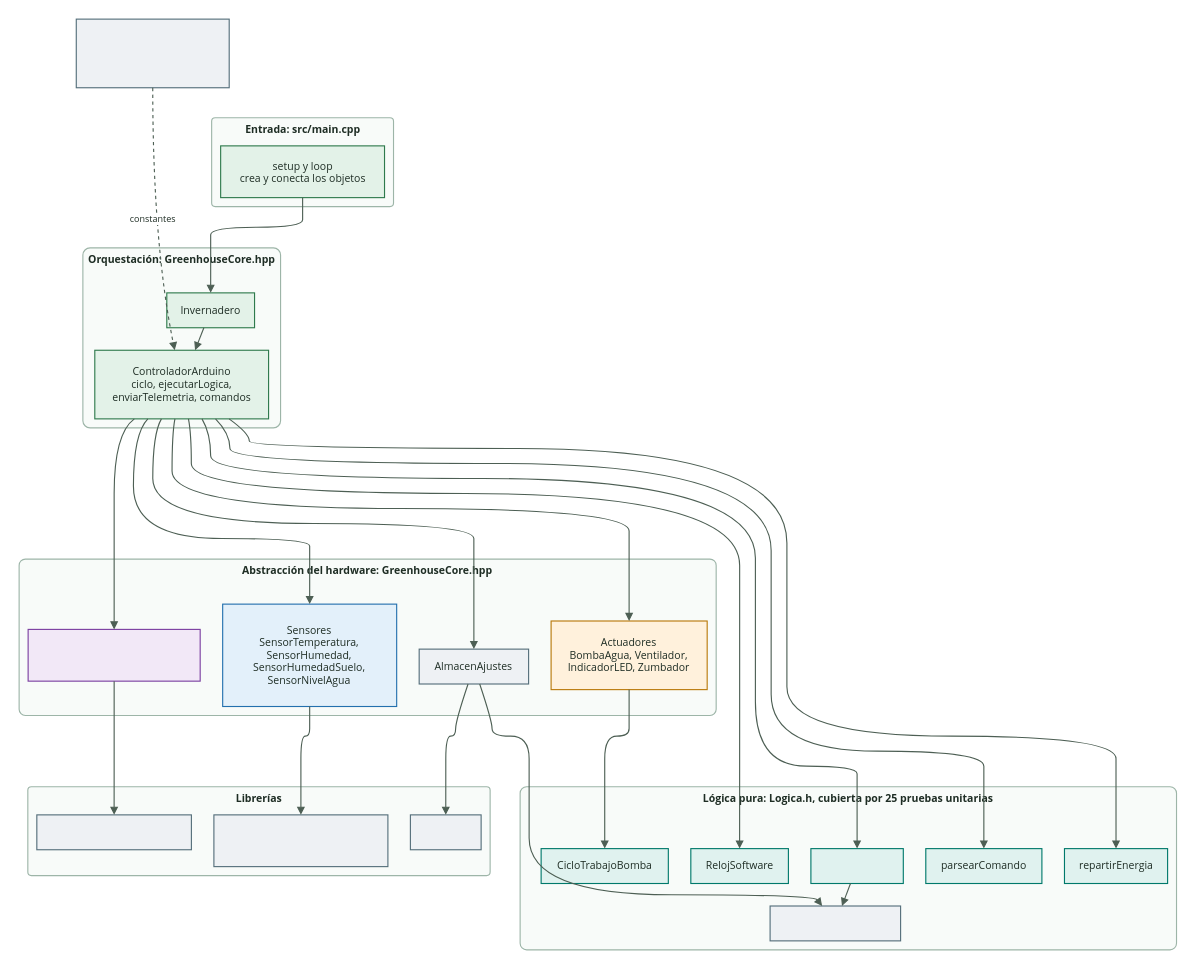
Some shapes in this 1196 by 968 pixel diagram are drawn without their labels. Here are the shapes that lost their labels. From the top down, the centre of each, then its label:
At point 152,53: "Config.h pines, partes instaladas, valores de fábrica".
At point 113,654: "Interfaz local PantallaLCD, BotonPulsador".
At point 114,832: "LiquidCrystal_I2C y Wire".
At point 300,840: "OneWire y DallasTemperature".
At point 445,832: "EEPROM".
At point 857,866: "ReglaControl".
At point 835,923: "Ajustes y checksum".
